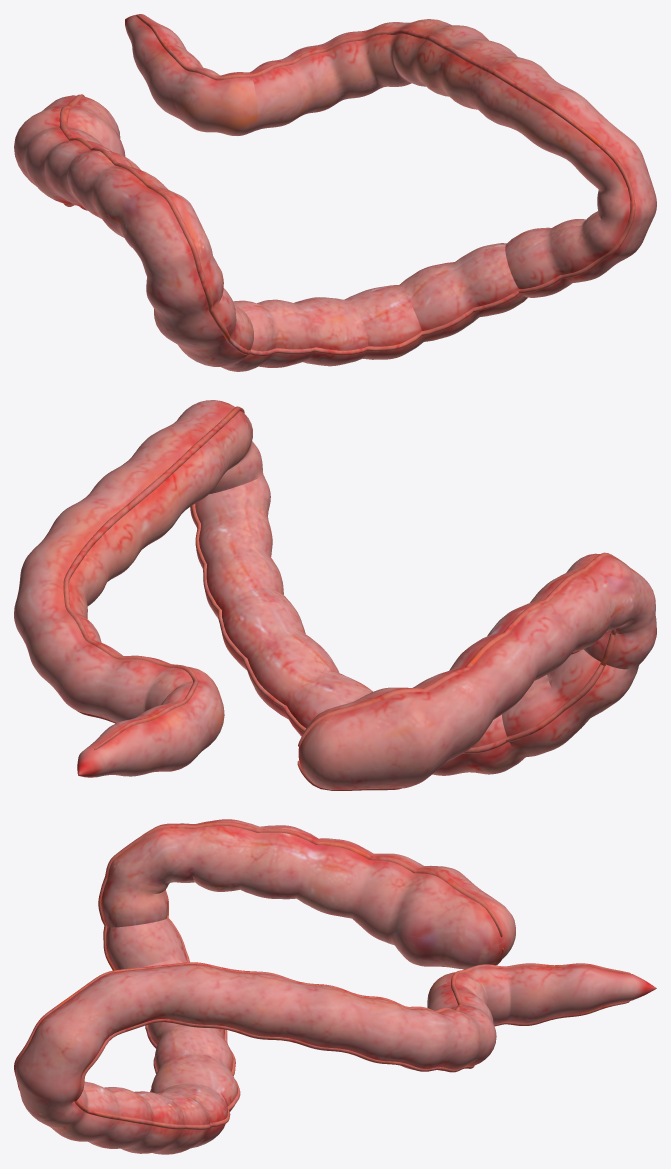
Rendered from largeIntestine.obj.
3 renders of one model, top to bottom at view 1: azimuth 30°, elevation 25°; view 2: azimuth 150°, elevation 25°; view 3: azimuth 270°, elevation 25°, orthographic. The views are drawn at different scales.
Visible parts, largest first — view 1: LargeIntestines; view 2: LargeIntestines; view 3: LargeIntestines.
Part boxes in pixels (<box>): LargeIntestines: <box>14,14,656,371</box>; LargeIntestines: <box>14,400,656,790</box>; LargeIntestines: <box>14,819,656,1154</box>.
Bounding box in the file's own units: 9.66 × 5.03 × 12.02.
